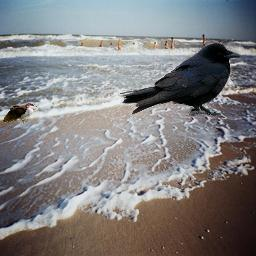Crow: (120, 42, 241, 116)
Cuckoo: (2, 89, 38, 124)
